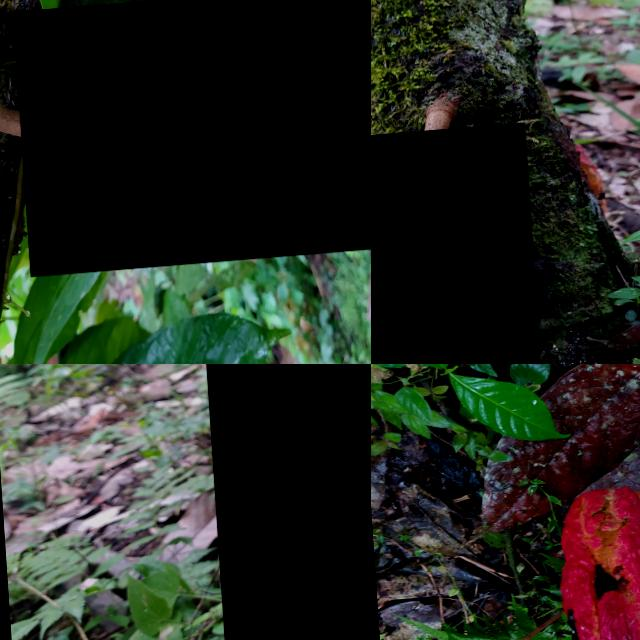Fitoftora: (10, 0, 371, 279), (550, 484, 640, 640)
Monilia: (195, 364, 371, 640)
Sana: (371, 130, 540, 364)
